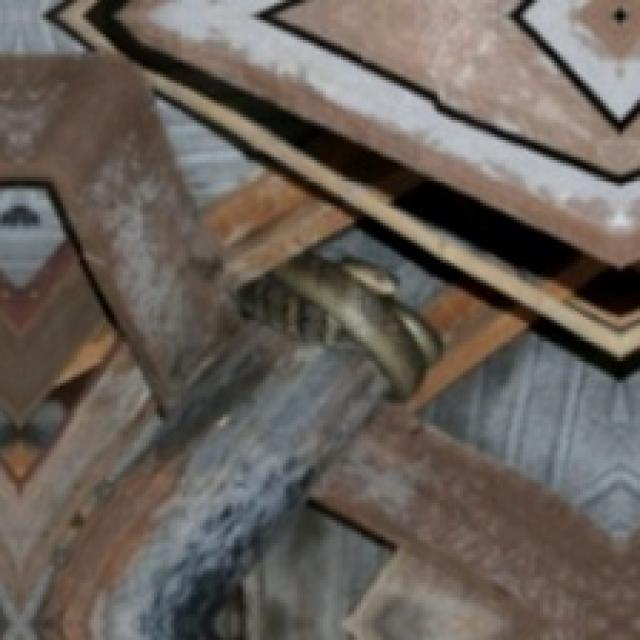king cobra: (0, 54, 383, 637), (271, 251, 440, 397)
